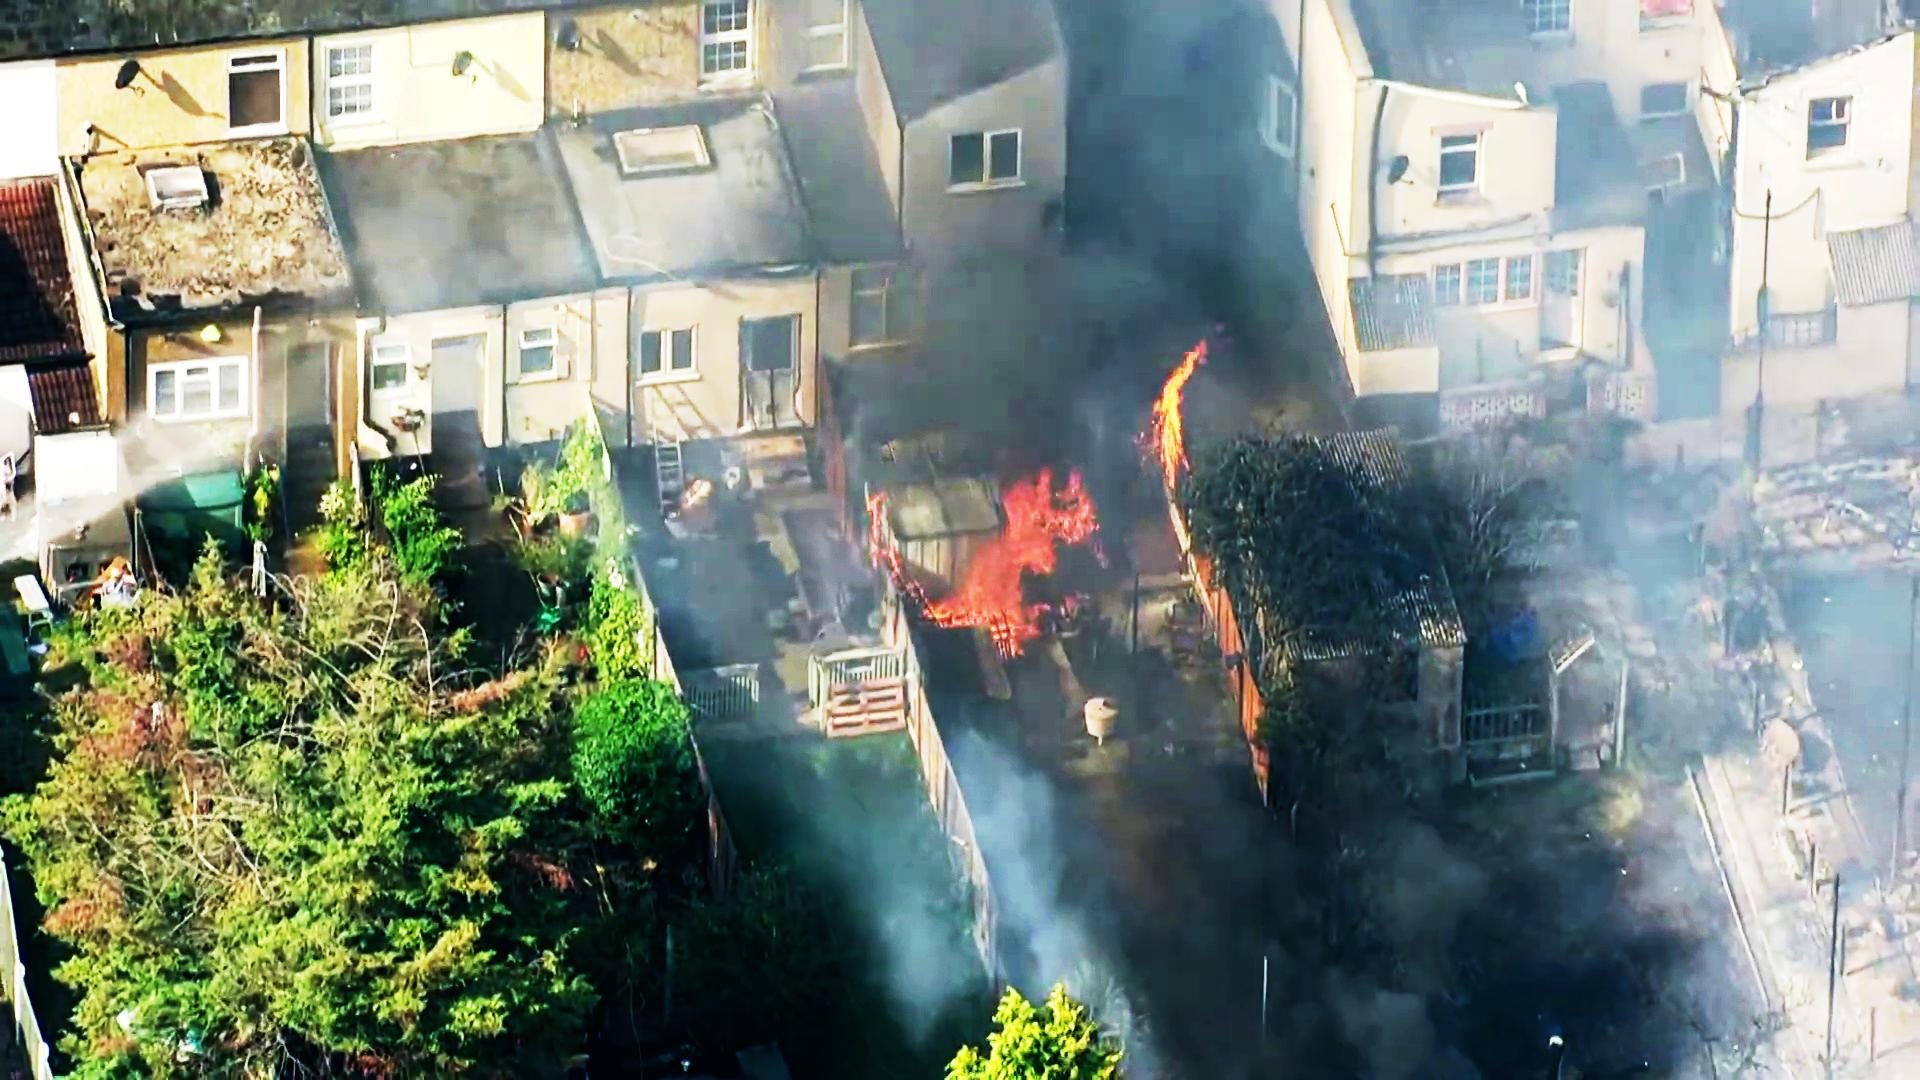fire: (897, 483, 1102, 673)
